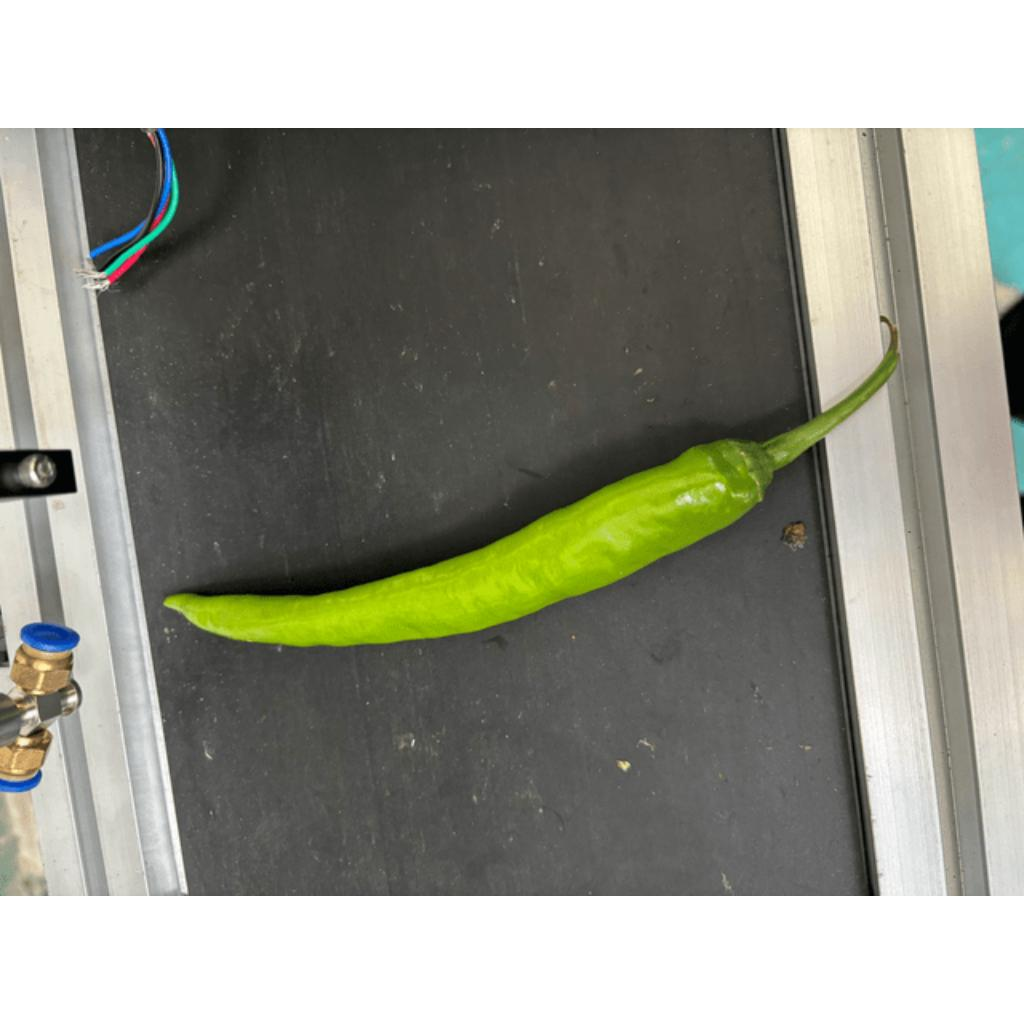chili: (156, 437, 778, 647)
